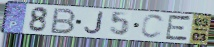5: (110, 10, 132, 38)
8: (27, 6, 50, 34)
B: (49, 7, 78, 35)
C: (139, 13, 166, 40)
E: (164, 14, 194, 44)
J: (83, 11, 105, 36)
